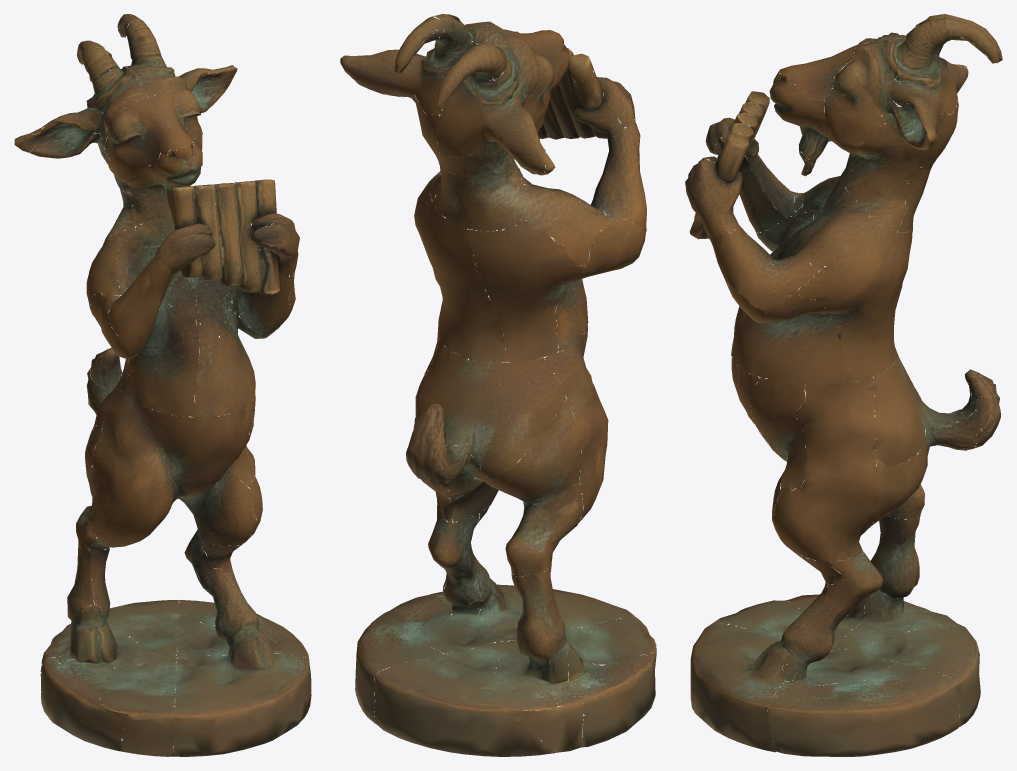
File: h_clock_goat.glb
3 views of the same model, side by side, from view 1: azimuth 30°, elevation 25°; view 2: azimuth 150°, elevation 25°; view 3: azimuth 270°, elevation 25° (orthographic). The views are drawn at different scales.
Parts seen in each view (by area): view 1: tripo_node_72e6ecb2-73ee-46b7-85f1-40d97274398f; view 2: tripo_node_72e6ecb2-73ee-46b7-85f1-40d97274398f; view 3: tripo_node_72e6ecb2-73ee-46b7-85f1-40d97274398f.
Part boxes in pixels (bbox=[...]): tripo_node_72e6ecb2-73ee-46b7-85f1-40d97274398f: bbox=[14, 14, 311, 756]; tripo_node_72e6ecb2-73ee-46b7-85f1-40d97274398f: bbox=[340, 14, 656, 756]; tripo_node_72e6ecb2-73ee-46b7-85f1-40d97274398f: bbox=[685, 14, 1002, 756].
Bounding box in the file's own units: 0.3813 × 1 × 0.4206.
Materials: 1 (1 with a texture image).
